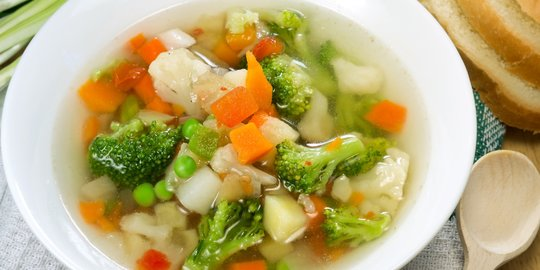buah_sayur_lainnya: (283, 144, 359, 176), (98, 134, 162, 171), (205, 216, 257, 248)
buah_sayur_vitA: (215, 89, 267, 126)
